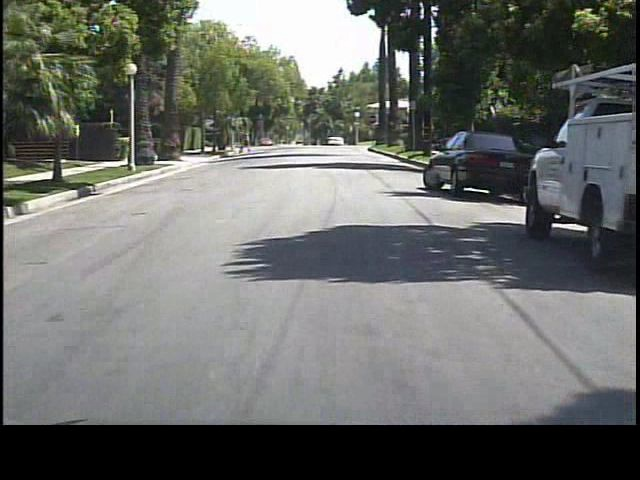person: (241, 129, 254, 157)
